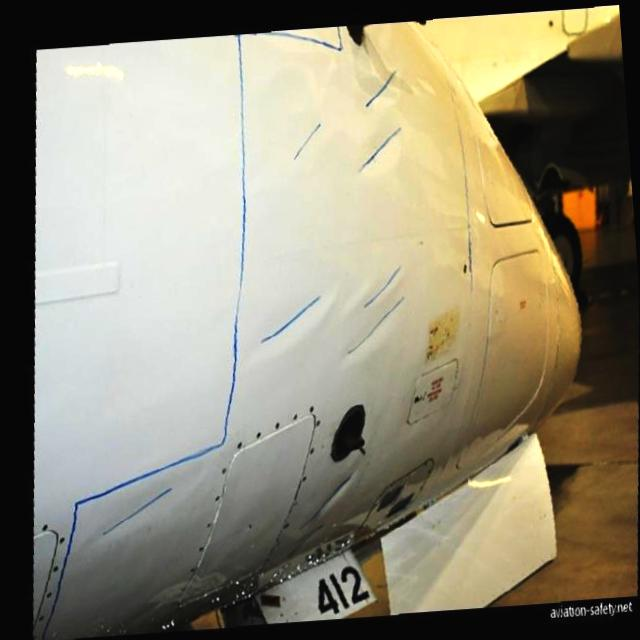dent: (342, 122, 432, 197)
